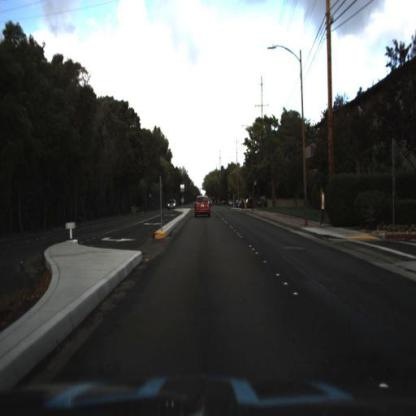car: (195, 195, 213, 221), (166, 192, 180, 215)
pedestrian: (317, 184, 328, 225)
